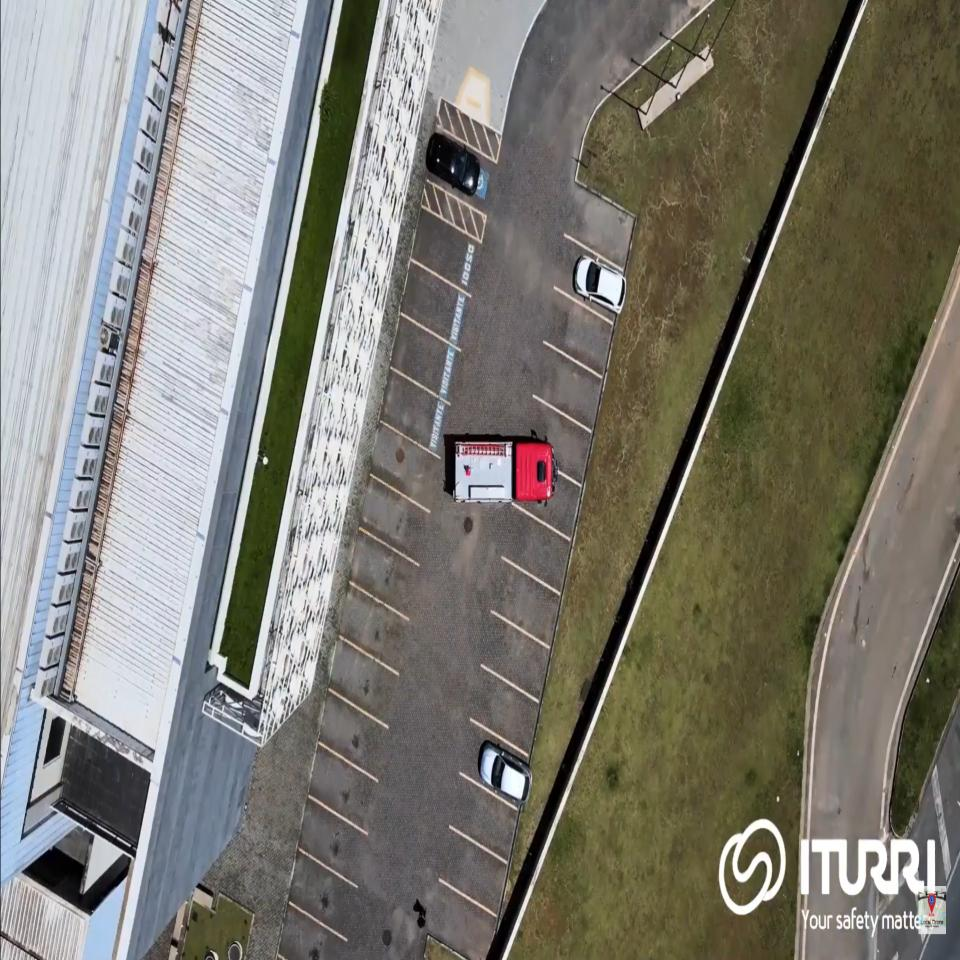viatura: (451, 430, 562, 506)
